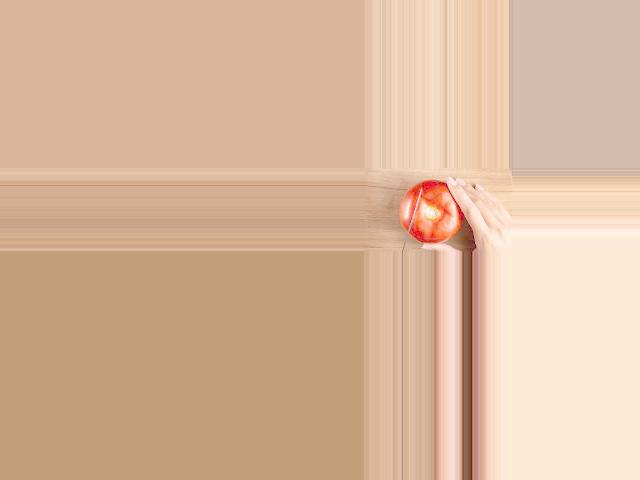tomato: (400, 180, 463, 243)
